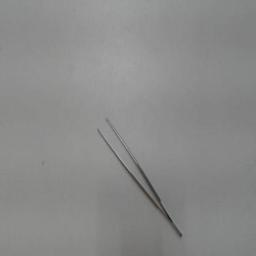Gillies Toothed Dissector: (96, 103, 188, 245)
